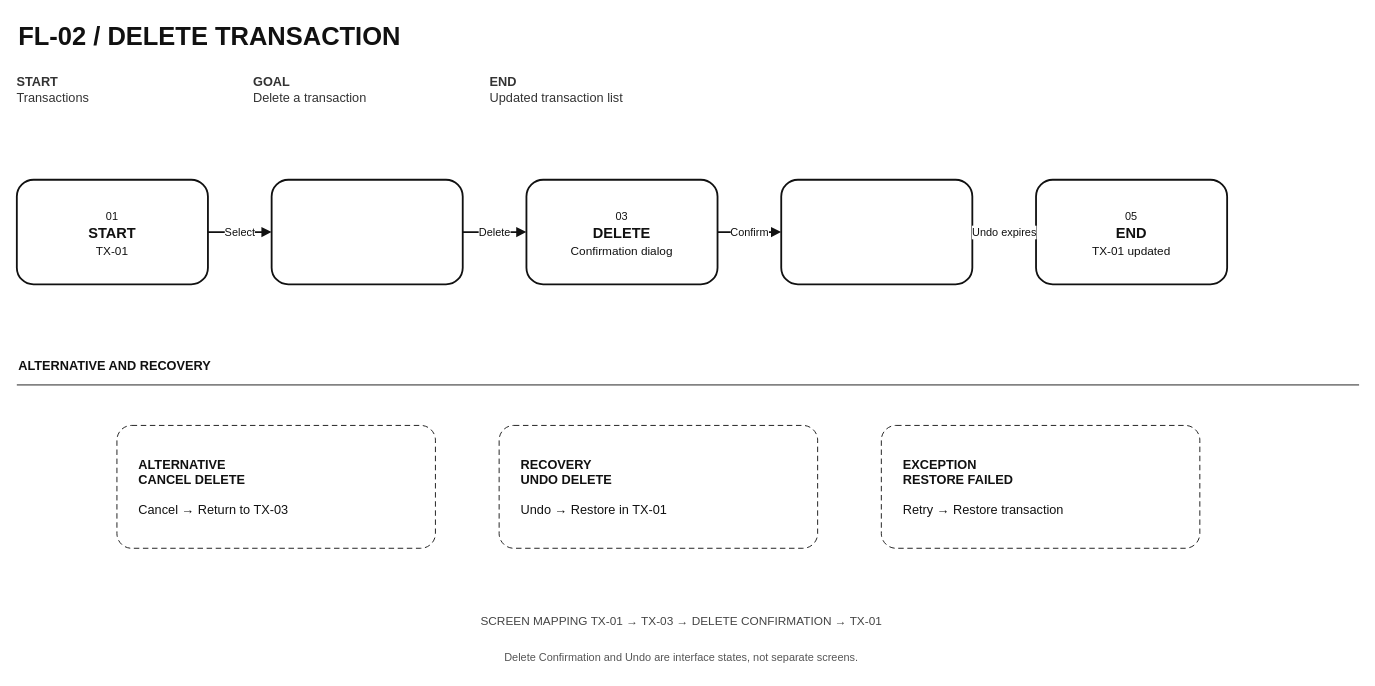
Some shapes in this 1375 by 686 pixel diagram are drawn without their labels. Each missing label, with the centre of its shape:
"02 VIEW DETAILS TX-03" belongs at point 366,231.
"04 DELETED TX-01 + Undo" belongs at point 876,231.
